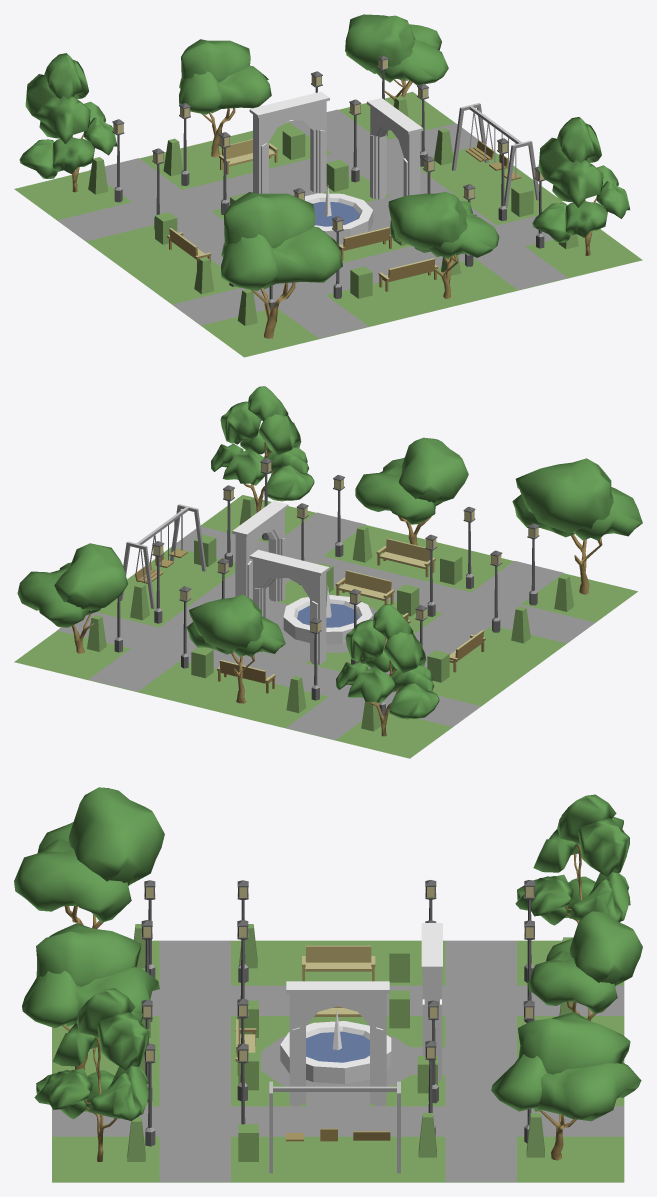
Rendered from park.glb.
3 views of the same model, one above another, from view 1: azimuth 30°, elevation 25°; view 2: azimuth 150°, elevation 25°; view 3: azimuth 270°, elevation 25° (orthographic). The views are drawn at different scales.
Visible parts, largest first — view 1: park.007; view 2: park.007; view 3: park.007.
Boxes of the visible parts, box(x1,y1,x2,y2) form: park.007: box(14, 14, 642, 357); park.007: box(14, 386, 642, 758); park.007: box(14, 787, 642, 1182).
Size of the model in its own units: 16.87 by 6.04 by 17.59.
1 material, 1 textured.
